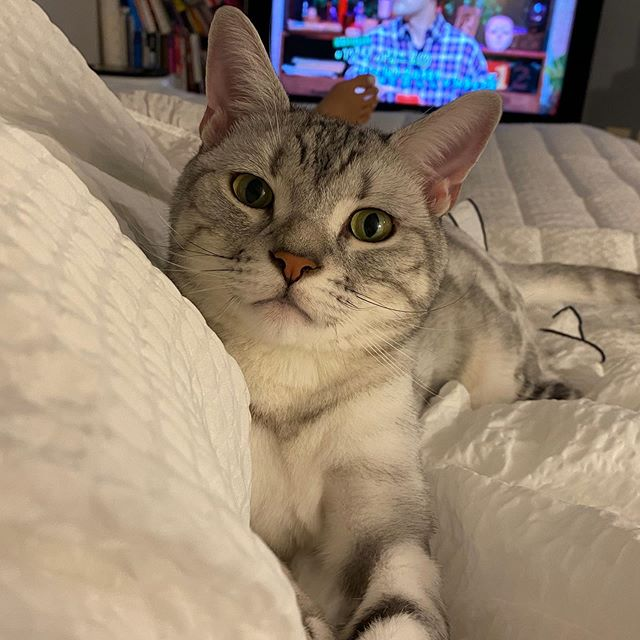cat: (177, 5, 504, 356)
